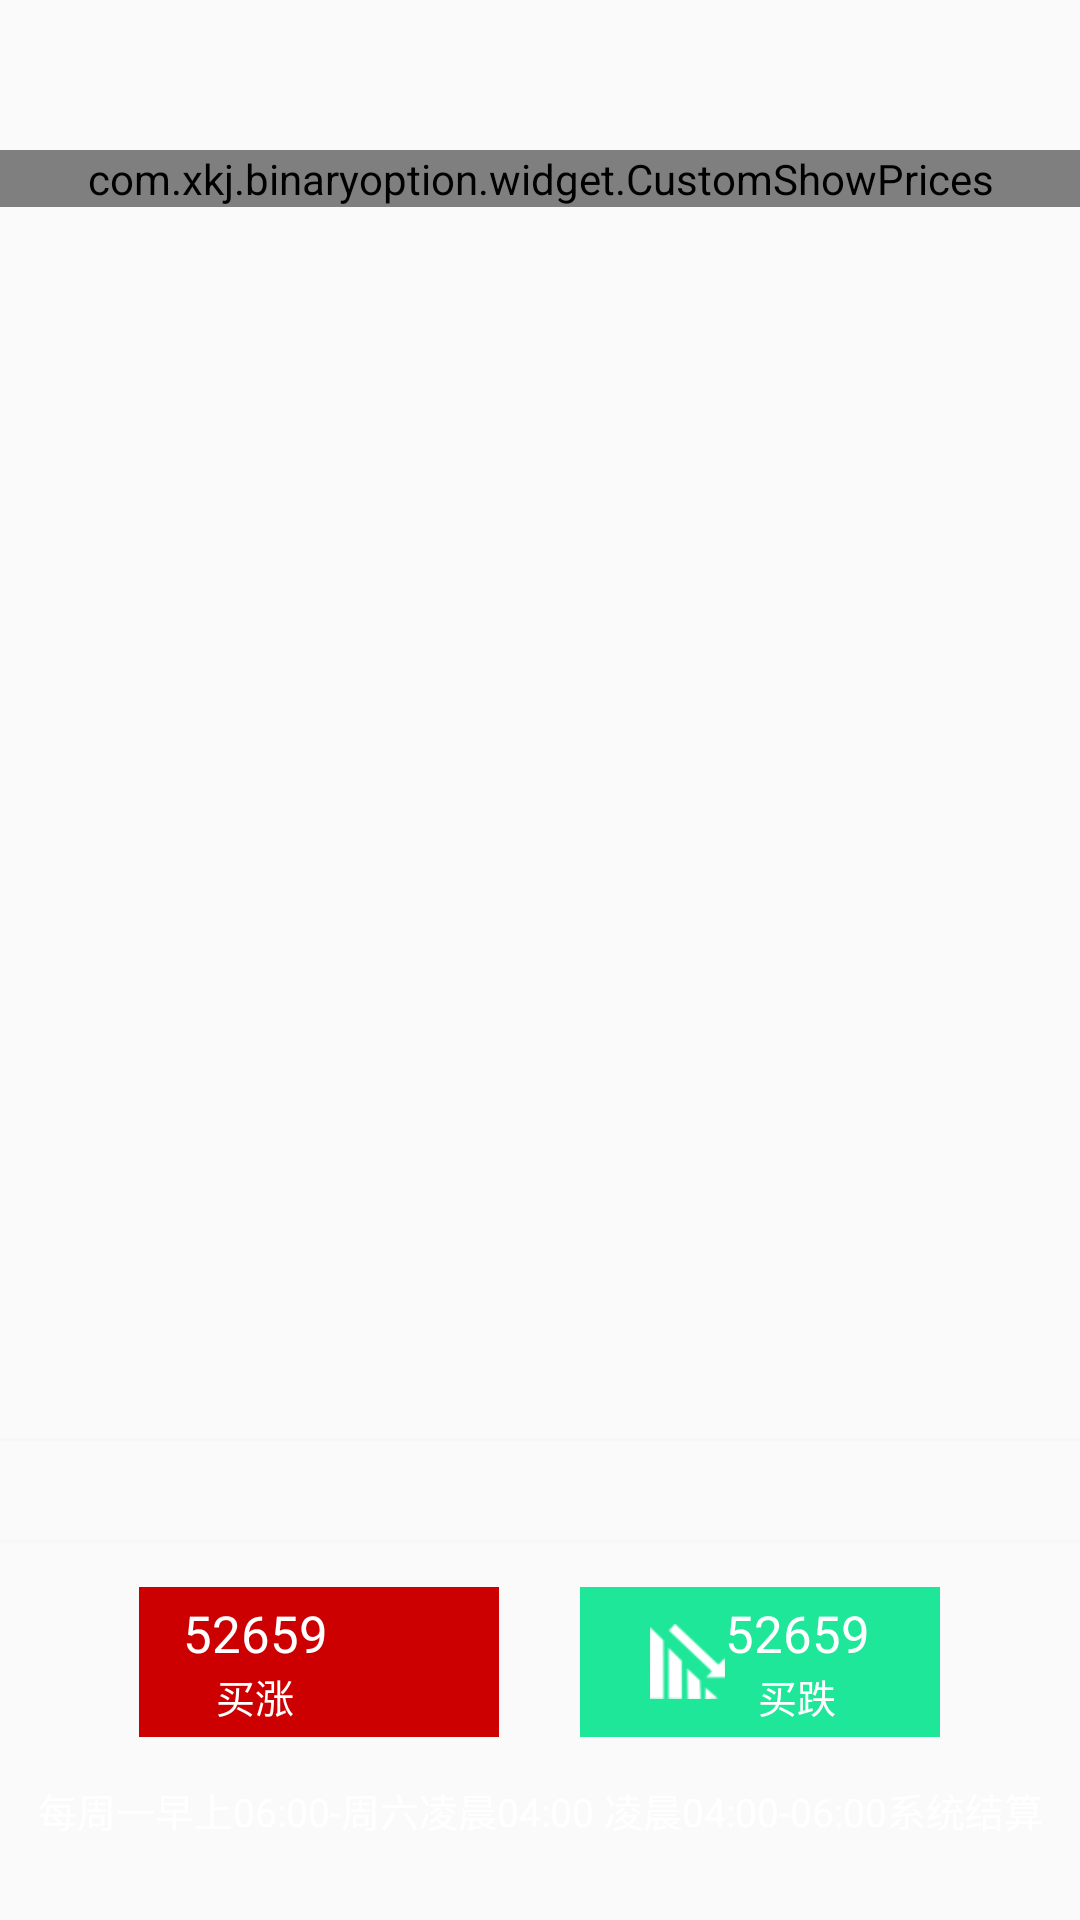

Locate icon controls on the screen. Image size 1080w x 1920h, boxes as (x1, y1, x2, y2).
index down: (650, 1624, 725, 1699)
